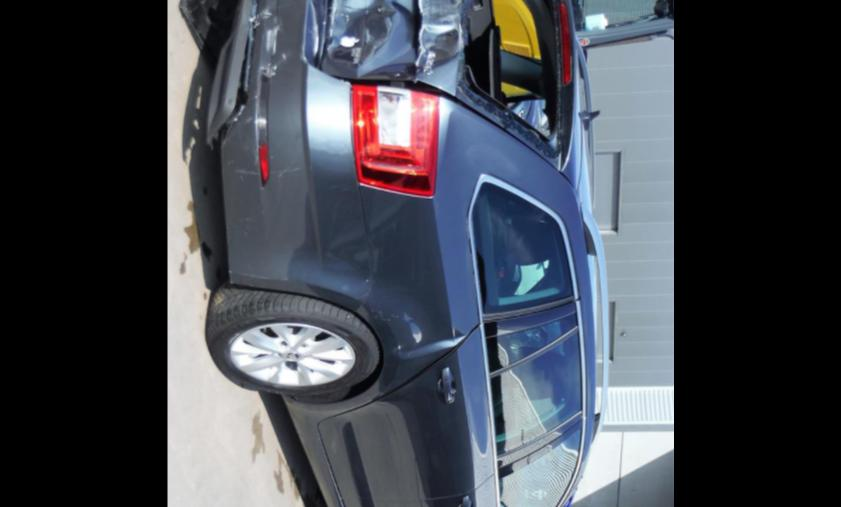Broken part: (322, 73, 545, 161), (208, 0, 273, 149), (316, 0, 334, 68)
Dent: (310, 0, 462, 100), (367, 308, 465, 362)
Missing part: (458, 0, 562, 153)
Scratch: (255, 10, 290, 81), (428, 0, 455, 58), (233, 160, 304, 181), (323, 0, 353, 35), (364, 4, 384, 19)
